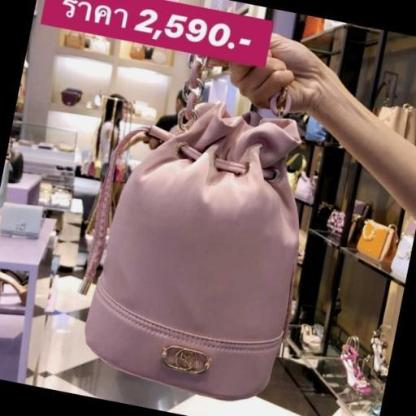bag: (80, 90, 319, 403)
